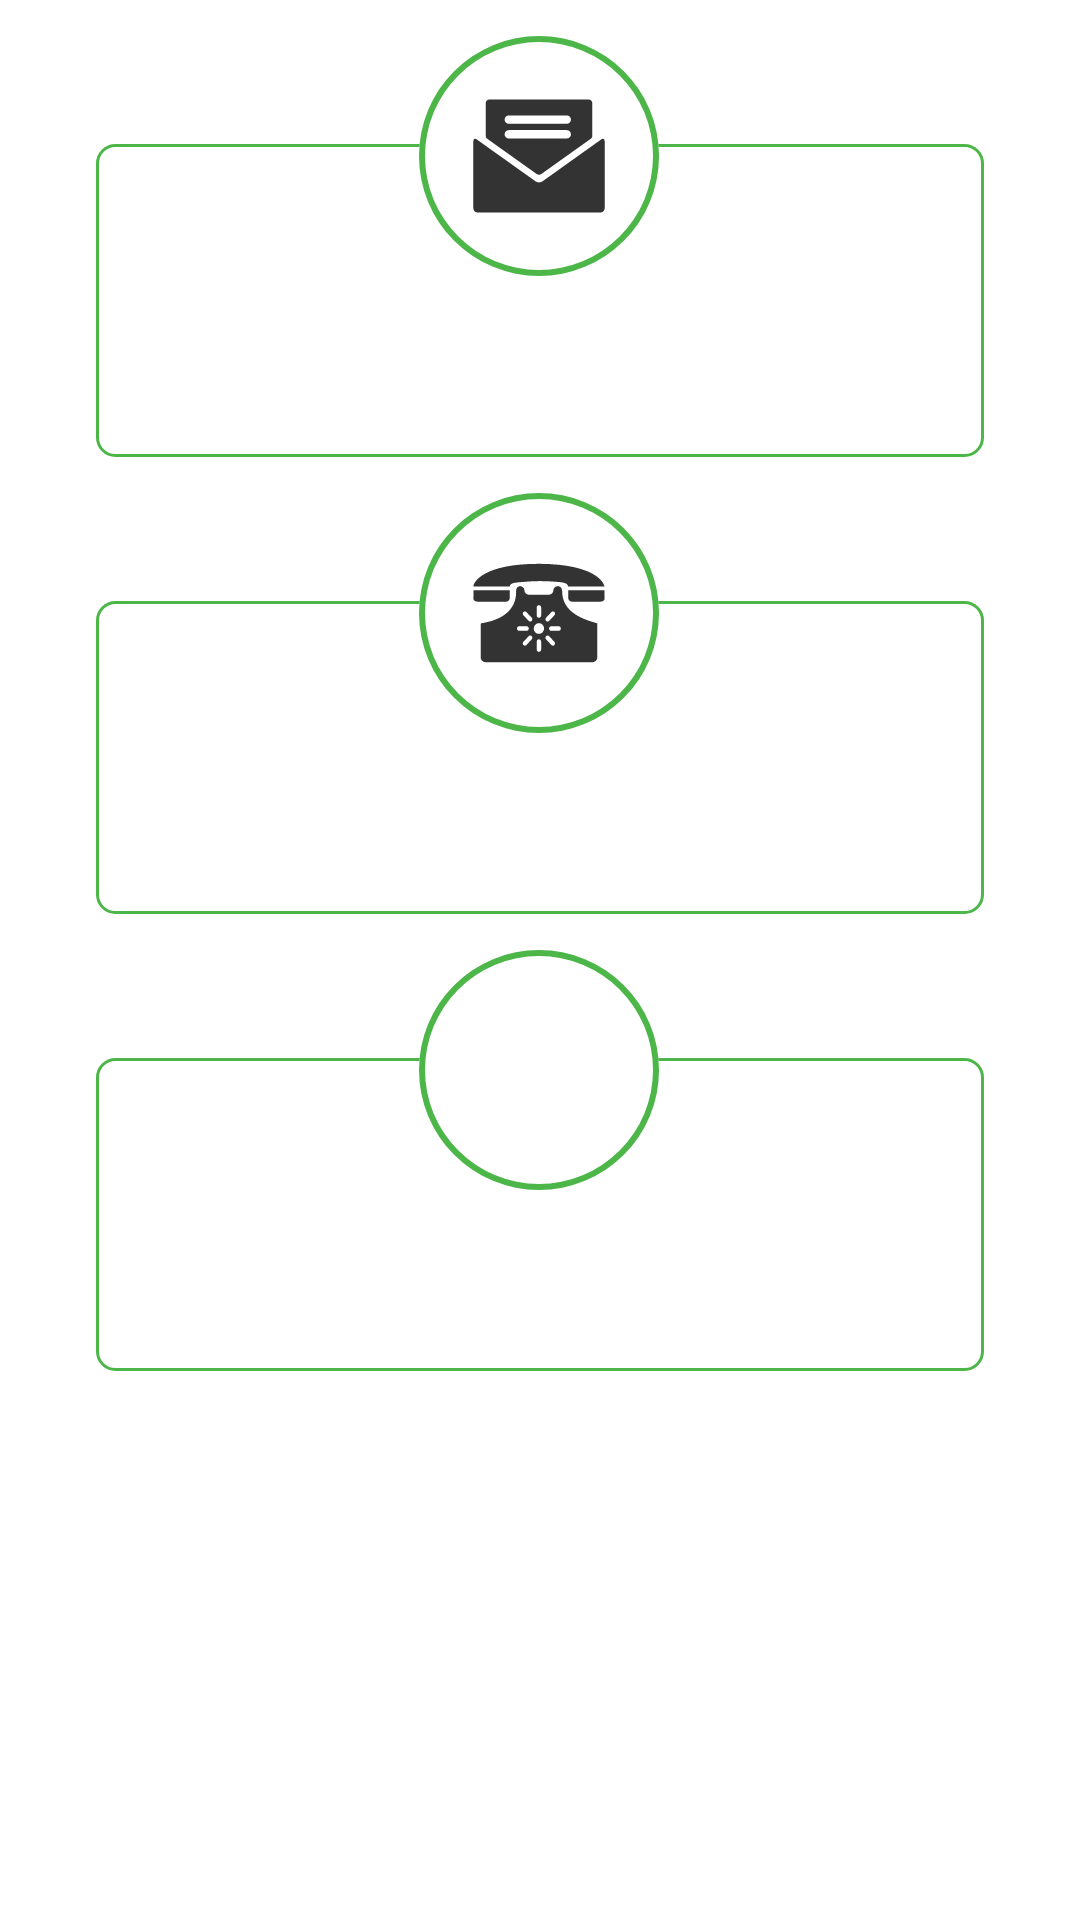

Icon bounding boxes for this 1080px x 1920px phone screenshot, format region(x1, y1, x2, y2):
envelope open: region(473, 99, 605, 213)
telephone: region(473, 563, 605, 663)
